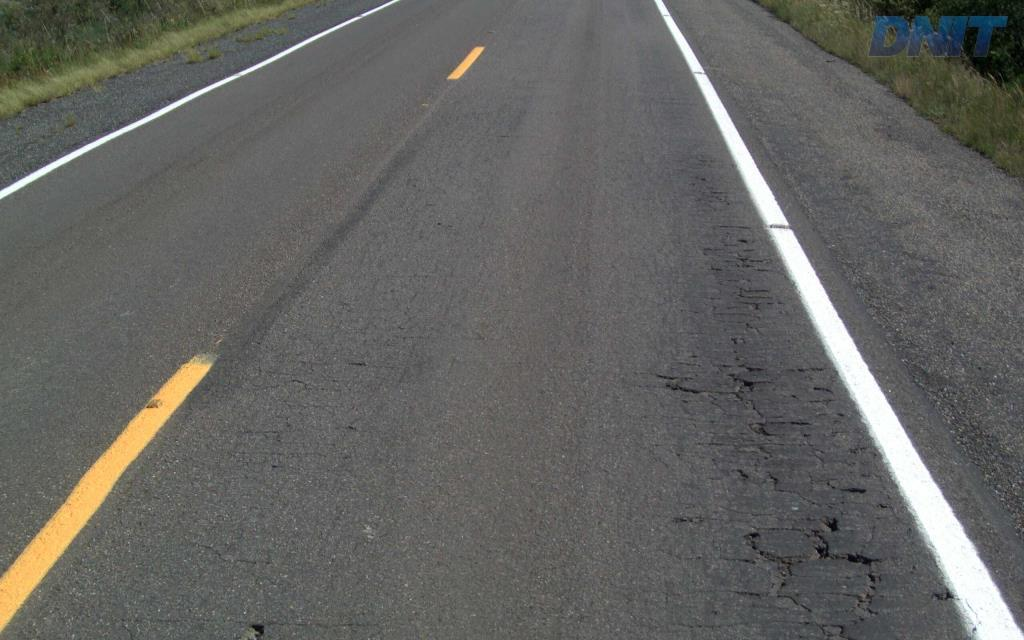crack: (785, 527, 882, 590), (743, 531, 807, 588)
